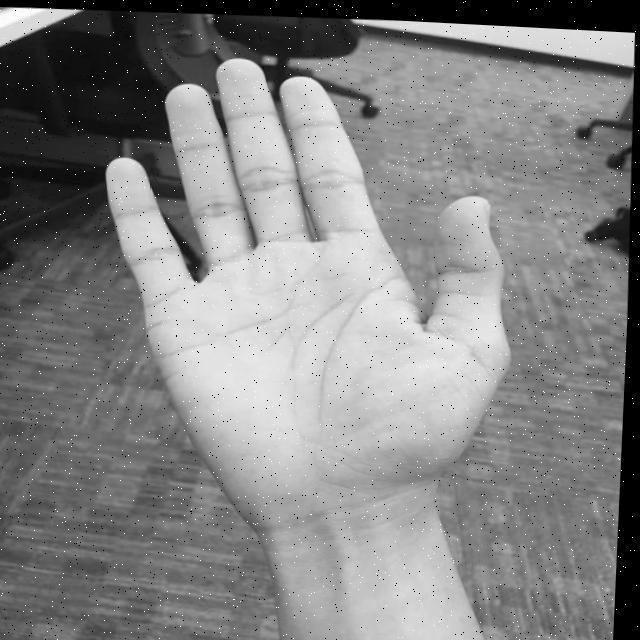no-gloves: (90, 42, 524, 522)
